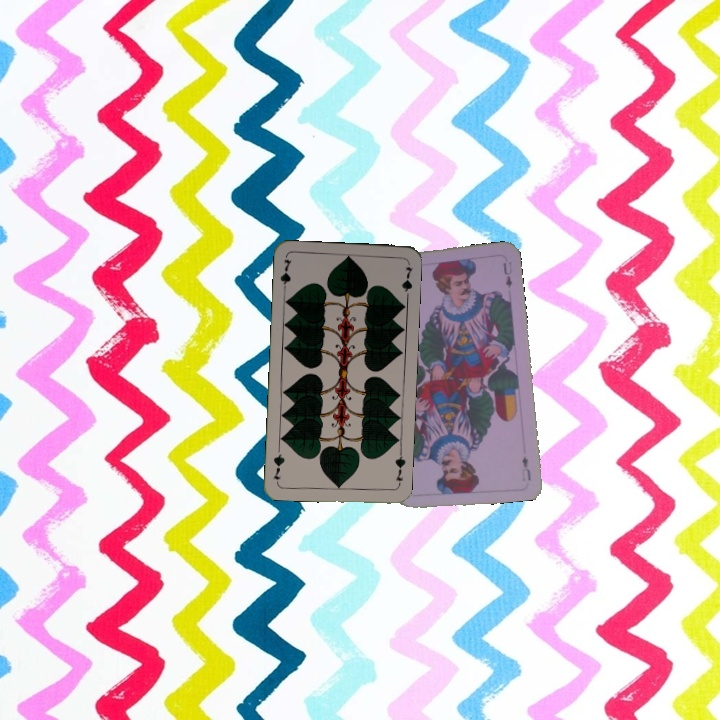EU: (518, 452, 533, 483)
G7: (276, 256, 294, 295), (391, 449, 408, 489)
